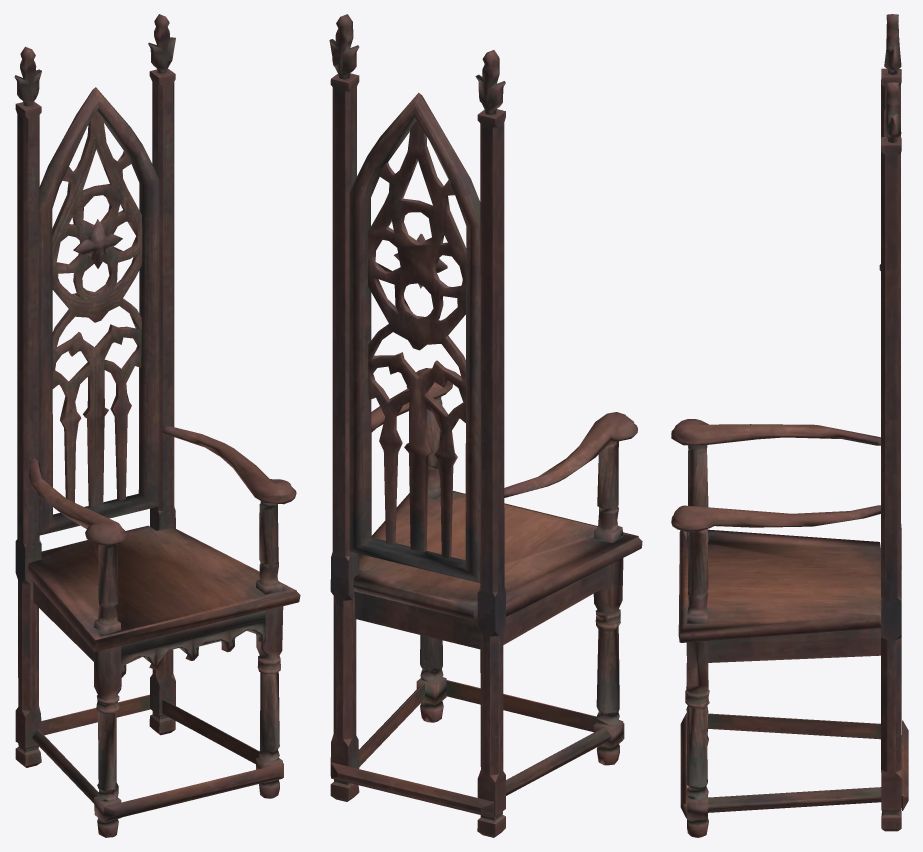
File: WoodenChair_01.glb
3 renders of one model, left to right at view 1: azimuth 30°, elevation 25°; view 2: azimuth 150°, elevation 25°; view 3: azimuth 270°, elevation 25°, orthographic. The views are drawn at different scales.
Visible parts, largest first — view 1: WoodenChair_01; view 2: WoodenChair_01; view 3: WoodenChair_01.
Boxes of the visible parts, x1,y1,x2,y2 form: WoodenChair_01: [14, 14, 300, 837]; WoodenChair_01: [329, 14, 642, 837]; WoodenChair_01: [671, 14, 908, 837].
Bounding box in the file's own units: 0.6873 × 2.27 × 0.6556.
1 material, 1 textured.
